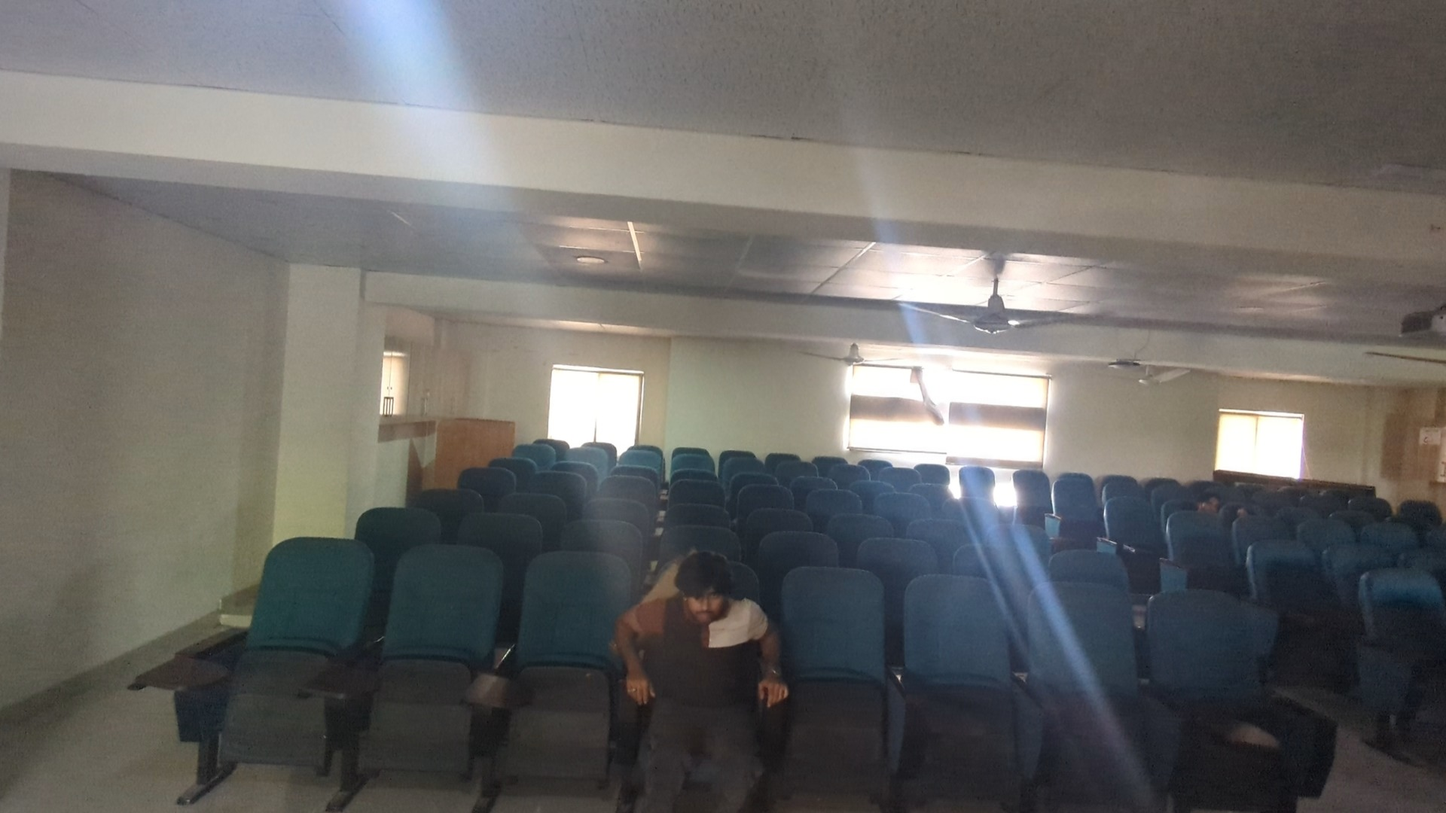look_forward: (590, 516, 798, 795)
